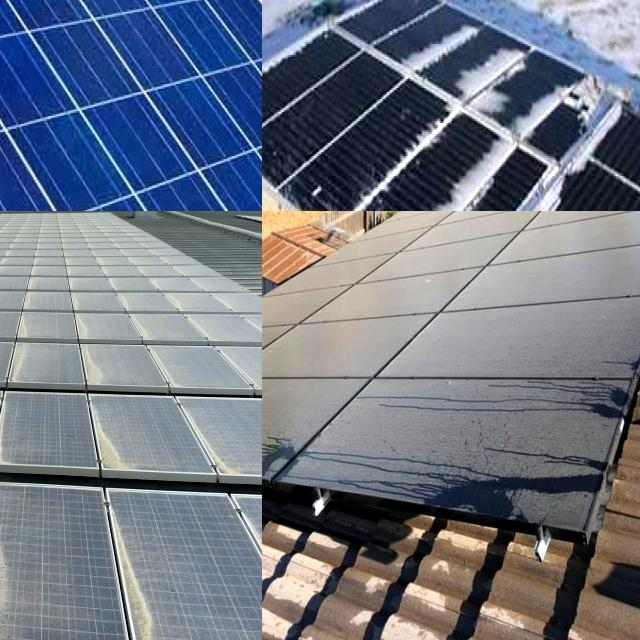crack: (0, 0, 262, 211), (58, 0, 262, 211)
dust: (79, 279, 225, 472), (413, 316, 616, 442), (418, 211, 640, 295), (101, 494, 209, 640), (417, 436, 595, 508), (5, 278, 74, 452), (262, 306, 398, 376), (262, 378, 367, 459), (0, 285, 47, 462), (0, 280, 45, 454), (0, 473, 49, 627), (0, 481, 29, 640), (219, 538, 249, 640), (345, 244, 400, 298), (585, 211, 640, 236)
panel: (376, 134, 498, 211), (528, 64, 616, 138), (453, 34, 517, 120), (405, 10, 477, 84)
